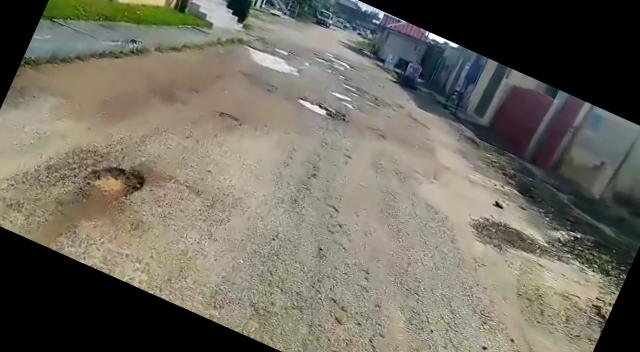pothole: (84, 154, 146, 206), (242, 41, 302, 79), (292, 94, 338, 122), (329, 86, 354, 102)
